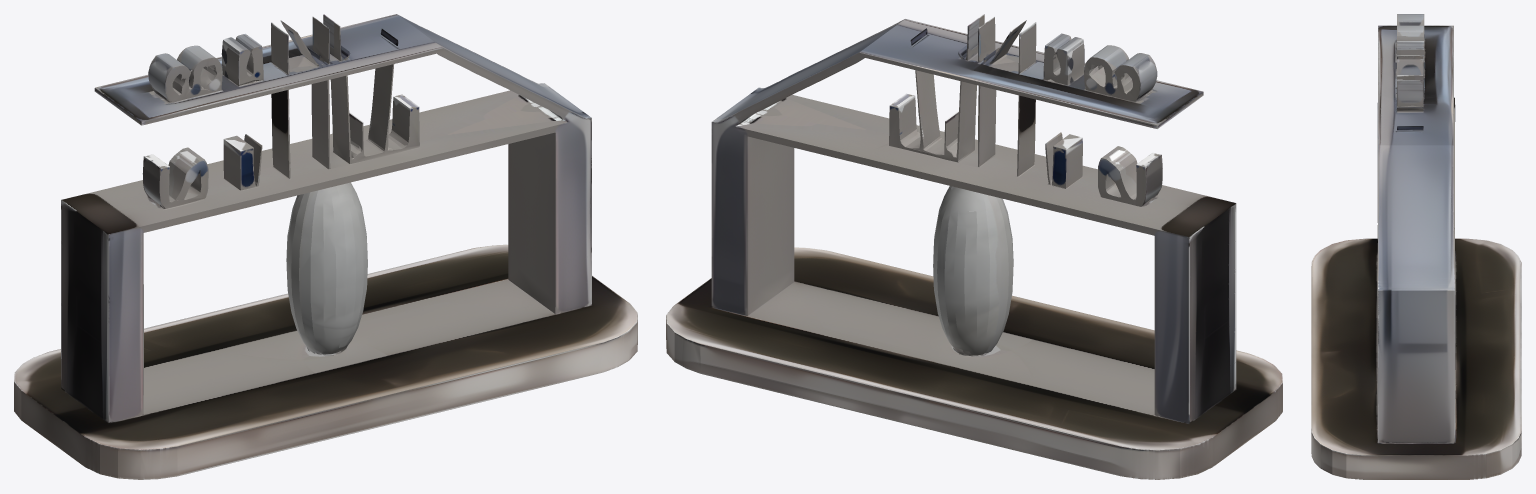
The picture shows the model from 3 angles, left to right: view 1: azimuth 30°, elevation 25°; view 2: azimuth 150°, elevation 25°; view 3: azimuth 270°, elevation 25°; orthographic projection. The views are drawn at different scales.
Visible parts, largest first — view 1: model; view 2: model; view 3: model.
Boxes of the visible parts, x1=… form: model: x1=14, y1=14, x2=637, y2=479; model: x1=666, y1=14, x2=1282, y2=479; model: x1=1311, y1=14, x2=1521, y2=479.
Bounding box in the file's own units: 1.9 × 1.21 × 0.7782.
1 material, 1 textured.
